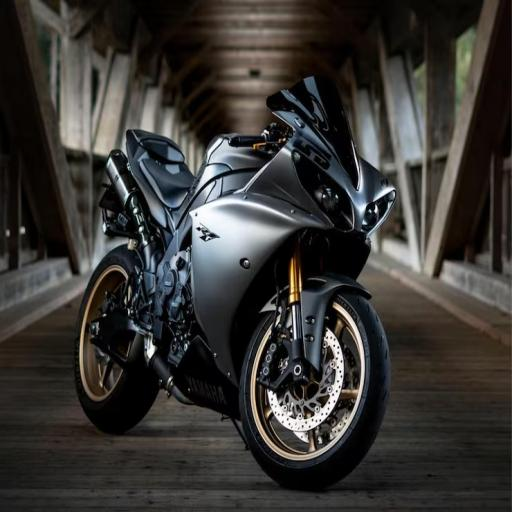bike-detection: (69, 60, 416, 483), (94, 99, 412, 492), (396, 70, 408, 101)
